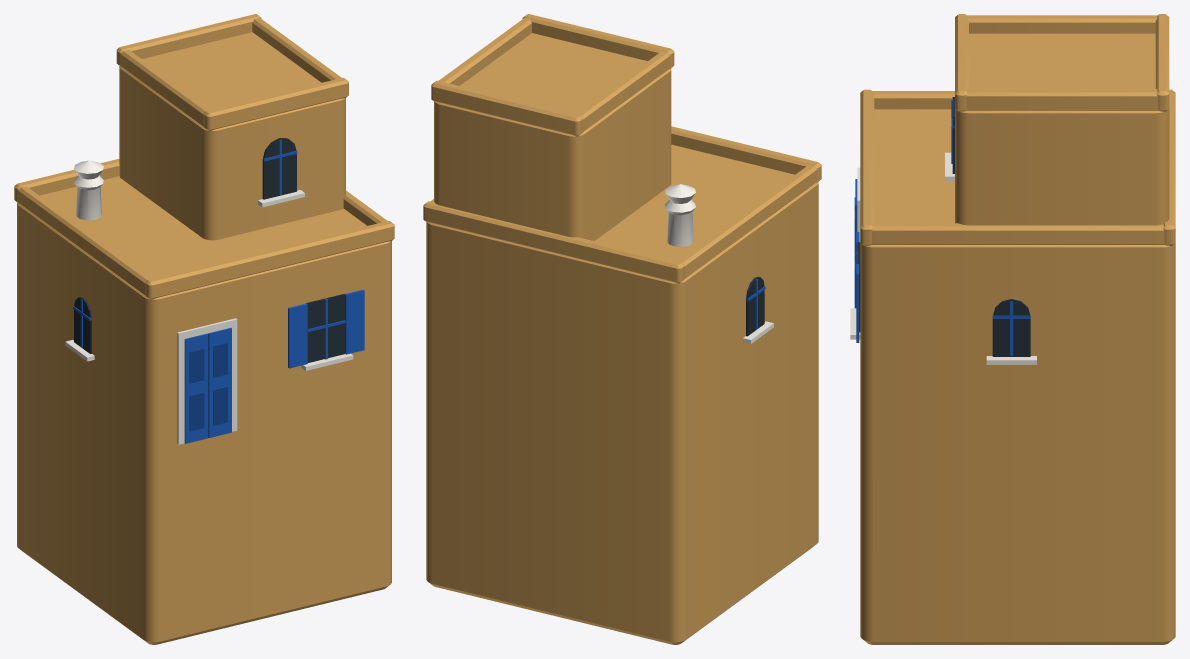
Rendered from cube-ochre.glb.
3 views of the same model, side by side, from view 1: azimuth 30°, elevation 25°; view 2: azimuth 150°, elevation 25°; view 3: azimuth 270°, elevation 25° (orthographic). The views are drawn at different scales.
Visible parts, largest first — view 1: wall0, wall5, wall1, wall6, wall3, wall7, pane18, white10, wall8, blue11, pane25, blue14 (+9 smaller); view 2: wall0, wall5, wall2, wall7, wall3, wall1, wall6, wall8, wall9, white30, pane31; view 3: wall0, wall5, wall4, wall9, wall8, wall1, pane37, wall3, wall7, wall6, wall2.
Boxes of the visible parts, x1,y1,x2,y2 form: wall0: (17, 176, 391, 644); wall5: (119, 32, 345, 240); wall1: (145, 221, 394, 299); wall6: (203, 77, 348, 130); wall3: (18, 186, 151, 294); wall7: (116, 14, 261, 66); pane18: (306, 294, 344, 362); white10: (177, 318, 237, 444); wall8: (120, 49, 210, 126); blue11: (184, 333, 208, 443); pane25: (262, 138, 296, 199); blue14: (208, 328, 231, 437); wall0: (426, 144, 818, 644); wall5: (434, 33, 671, 240); wall2: (423, 201, 684, 283); wall7: (431, 80, 582, 136); wall3: (677, 165, 817, 278); wall1: (671, 126, 821, 182); wall6: (522, 14, 674, 68); wall8: (576, 51, 670, 131); wall9: (438, 18, 531, 85); white30: (664, 184, 695, 246); pane31: (746, 276, 764, 336); wall0: (860, 109, 1175, 644); wall5: (955, 33, 1169, 225); wall4: (871, 223, 1164, 244); wall9: (966, 89, 1158, 110); wall8: (967, 15, 1157, 33); wall1: (860, 89, 874, 245); pane37: (992, 299, 1030, 356); wall3: (872, 91, 954, 109); wall7: (1155, 14, 1169, 111); wall6: (955, 14, 968, 111); wall2: (1163, 89, 1175, 245).
Size of the model in its own units: 5.52 by 9.66 by 5.16.
